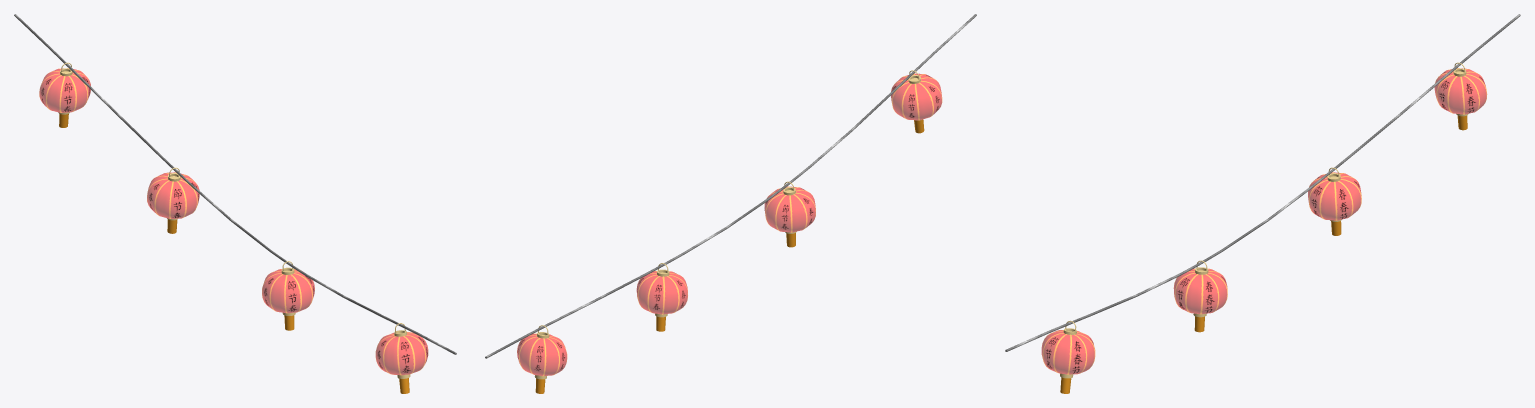
File: SM_lamp_spline_Splines_14.fbx
3 renders of one model, left to right at view 1: azimuth 30°, elevation 25°; view 2: azimuth 150°, elevation 25°; view 3: azimuth 330°, elevation 25°, orthographic. The views are drawn at different scales.
Visible parts, largest first — view 1: SM_lamp_spline_Splines_14; view 2: SM_lamp_spline_Splines_14; view 3: SM_lamp_spline_Splines_14.
Boxes of the visible parts, x1=… form: SM_lamp_spline_Splines_14: x1=14, y1=14, x2=456, y2=393; SM_lamp_spline_Splines_14: x1=485, y1=14, x2=976, y2=393; SM_lamp_spline_Splines_14: x1=1005, y1=14, x2=1520, y2=393.
Size of the model in its own units: 79.33 by 973 by 124.
